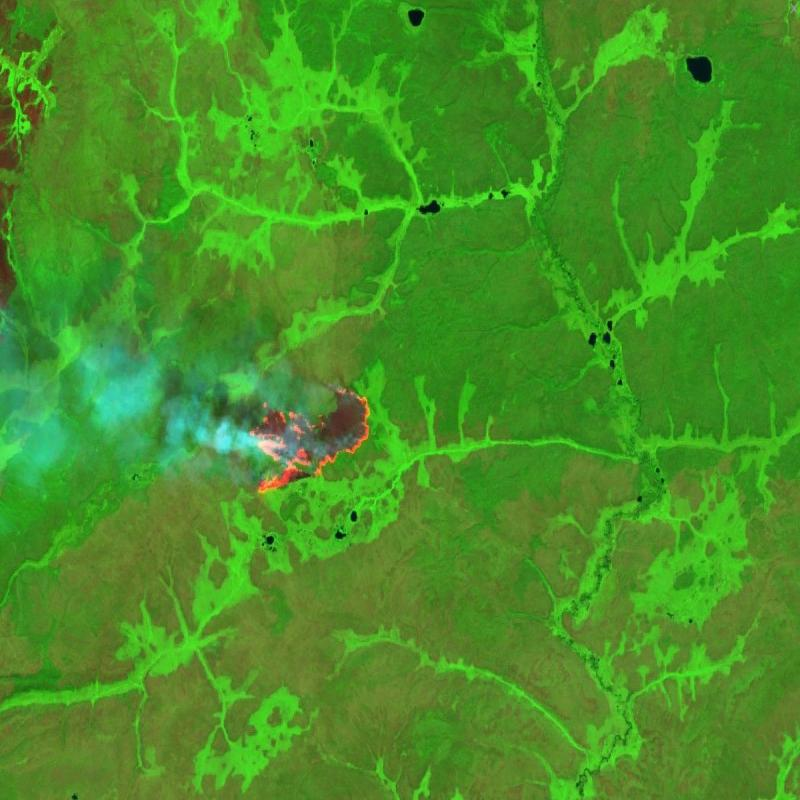fire: (247, 375, 375, 499)
